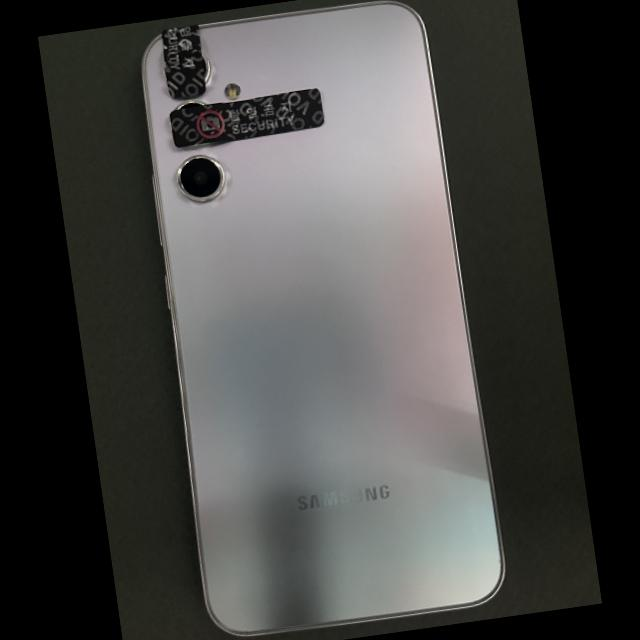lens: (177, 155, 225, 202), (175, 99, 207, 109), (203, 54, 210, 84)
phone: (143, 2, 503, 634)
sticker: (170, 88, 325, 148), (162, 24, 206, 100)
